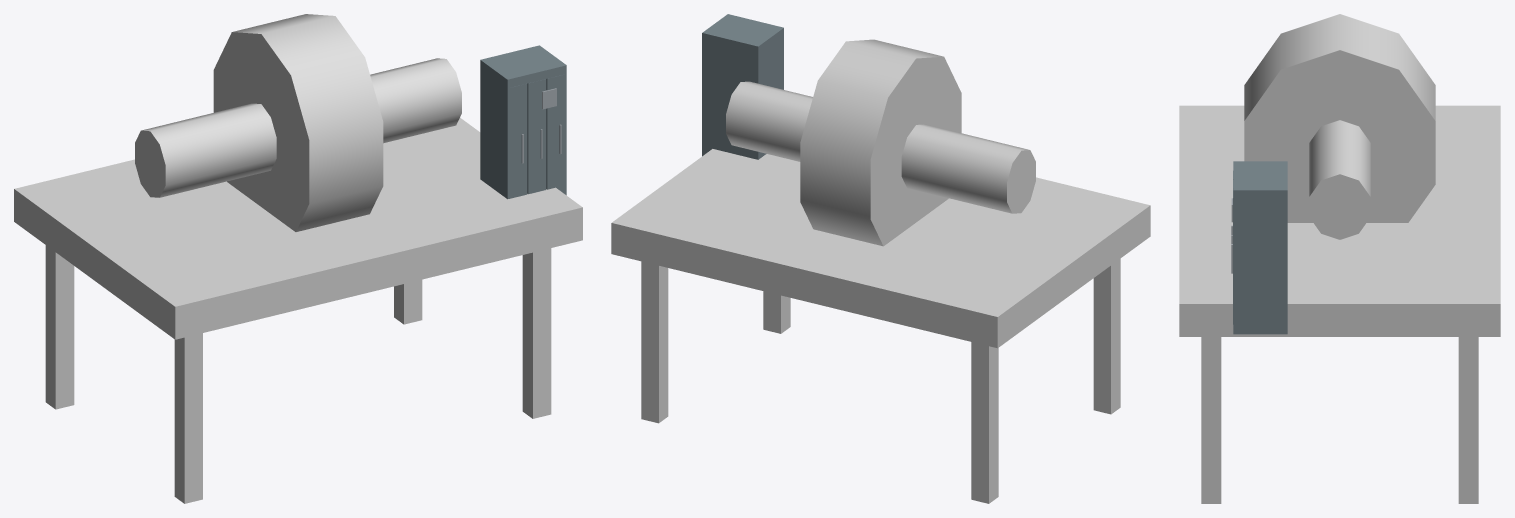
The picture shows the model from 3 angles, left to right: view 1: azimuth 30°, elevation 25°; view 2: azimuth 150°, elevation 25°; view 3: azimuth 270°, elevation 25°; orthographic projection. The views are drawn at different scales.
Visible parts, largest first — view 1: worktable_5, coil_7, workpiece_8, leg_4, leg_2, leg_1, g0.008, g0.007, g0, g0.004, g0.002, leg_3; view 2: worktable_5, coil_7, workpiece_8, leg_1, leg_3, leg_2, g0.003, g0.002, g0.008, leg_4; view 3: worktable_5, coil_7, g0.005, workpiece_8, leg_3, leg_4, g0.002, g0.003, g0.010.
Part boxes in pixels (<box>): worktable_5: <box>14,118,582,339</box>; coil_7: <box>213,14,383,231</box>; workpiece_8: <box>135,58,461,197</box>; leg_4: <box>522,248,551,418</box>; leg_2: <box>174,333,202,503</box>; leg_1: <box>45,245,74,409</box>; g0.008: <box>480,60,510,199</box>; g0.007: <box>527,79,546,194</box>; g0: <box>509,83,527,198</box>; g0.004: <box>546,74,565,193</box>; g0.002: <box>486,47,563,88</box>; leg_3: <box>394,279,422,324</box>; worktable_5: <box>611,149,1150,348</box>; coil_7: <box>800,39,961,246</box>; workpiece_8: <box>726,81,1035,213</box>; leg_1: <box>971,342,998,503</box>; leg_3: <box>641,261,668,423</box>; leg_2: <box>1093,258,1120,414</box>; g0.003: <box>702,32,759,158</box>; g0.002: <box>702,15,780,54</box>; g0.008: <box>755,27,783,159</box>; leg_4: <box>763,291,790,333</box>; worktable_5: <box>1179,105,1500,336</box>; coil_7: <box>1244,14,1435,222</box>; g0.005: <box>1233,188,1284,325</box>; workpiece_8: <box>1309,120,1370,239</box>; leg_3: <box>1458,337,1478,503</box>; leg_4: <box>1201,337,1221,503</box>; g0.002: <box>1233,163,1287,198</box>; g0.003: <box>1284,161,1287,333</box>; g0.010: <box>1233,325,1287,334</box>.
Size of the model in its own units: 2.4 by 2.1 by 1.6.
